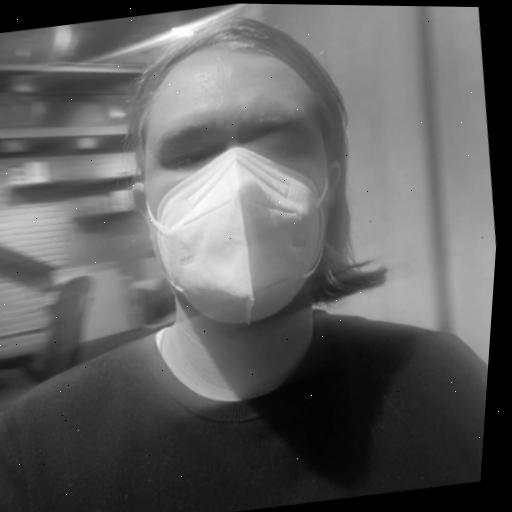mask: (67, 1, 399, 344)
